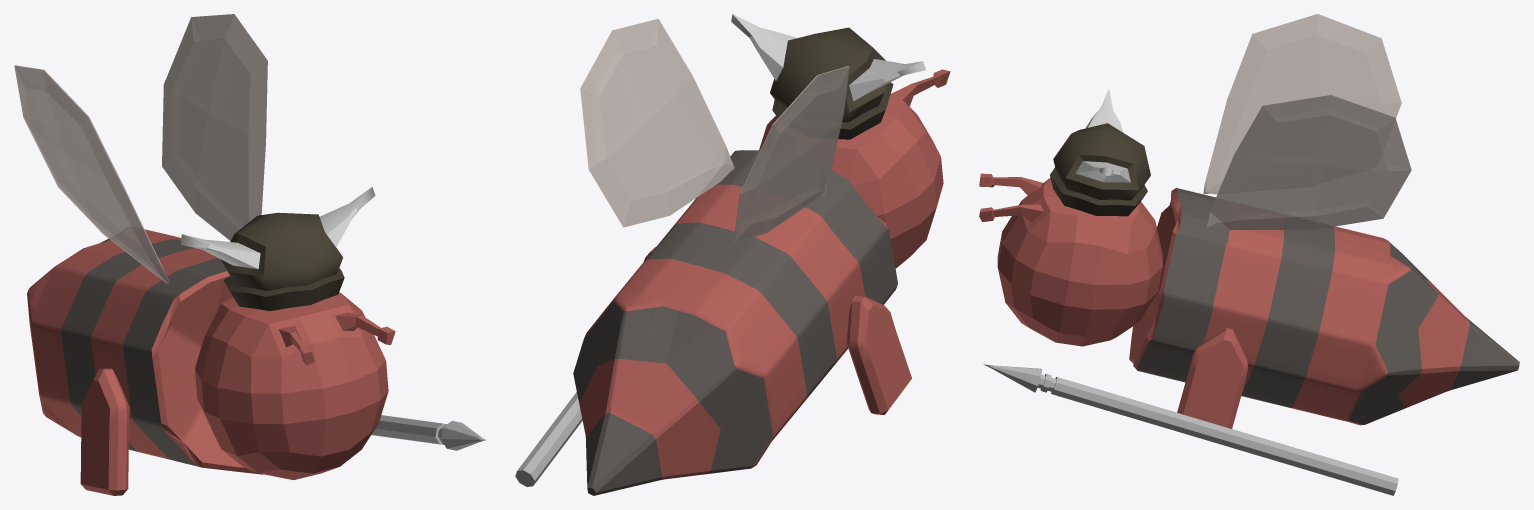
Rendered from hornet.fbx.
3 views of the same model, side by side, from view 1: azimuth 30°, elevation 25°; view 2: azimuth 150°, elevation 25°; view 3: azimuth 270°, elevation 25° (orthographic). The views are drawn at different scales.
Visible parts, largest first — view 1: hornet1; view 2: hornet1; view 3: hornet1.
Boxes of the visible parts, box(x1,y1,x2,y2) form: hornet1: box(14, 14, 486, 495); hornet1: box(515, 14, 950, 495); hornet1: box(979, 14, 1519, 495).
Size of the model in its own units: 2.47 by 3.76 by 4.85.
